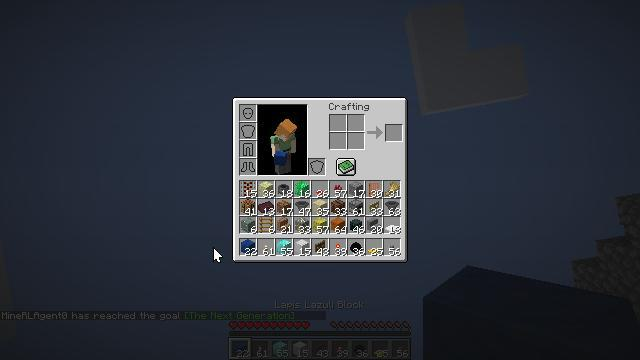cursor: (247, 213, 263, 223)
